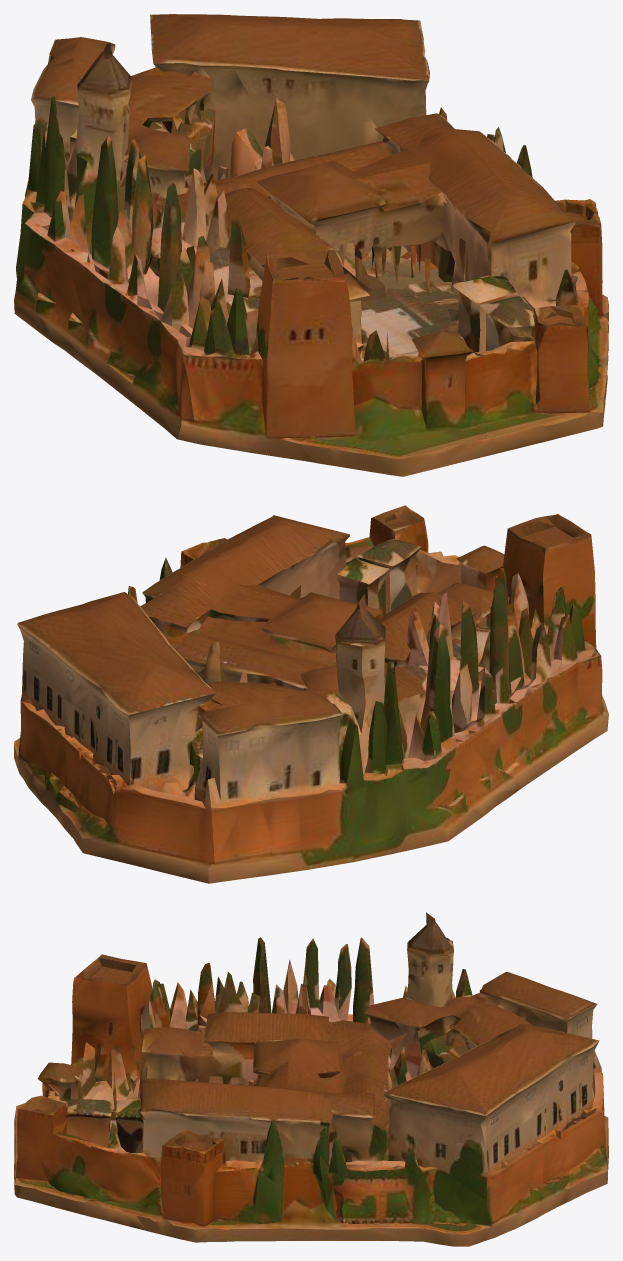
The model's file is alhambra.glb.
The picture shows the model from 3 angles, top to bottom: view 1: azimuth 30°, elevation 25°; view 2: azimuth 150°, elevation 25°; view 3: azimuth 270°, elevation 25°; orthographic projection. The views are drawn at different scales.
Visible parts, largest first — view 1: logan-textured.obj; view 2: logan-textured.obj; view 3: logan-textured.obj.
Boxes of the visible parts, x1,y1,x2,y2 form: logan-textured.obj: (14,14,608,476); logan-textured.obj: (14,505,608,883); logan-textured.obj: (14,912,608,1246).
Size of the model in its own units: 0.7068 by 0.3645 by 1.
1 material, 1 textured.
